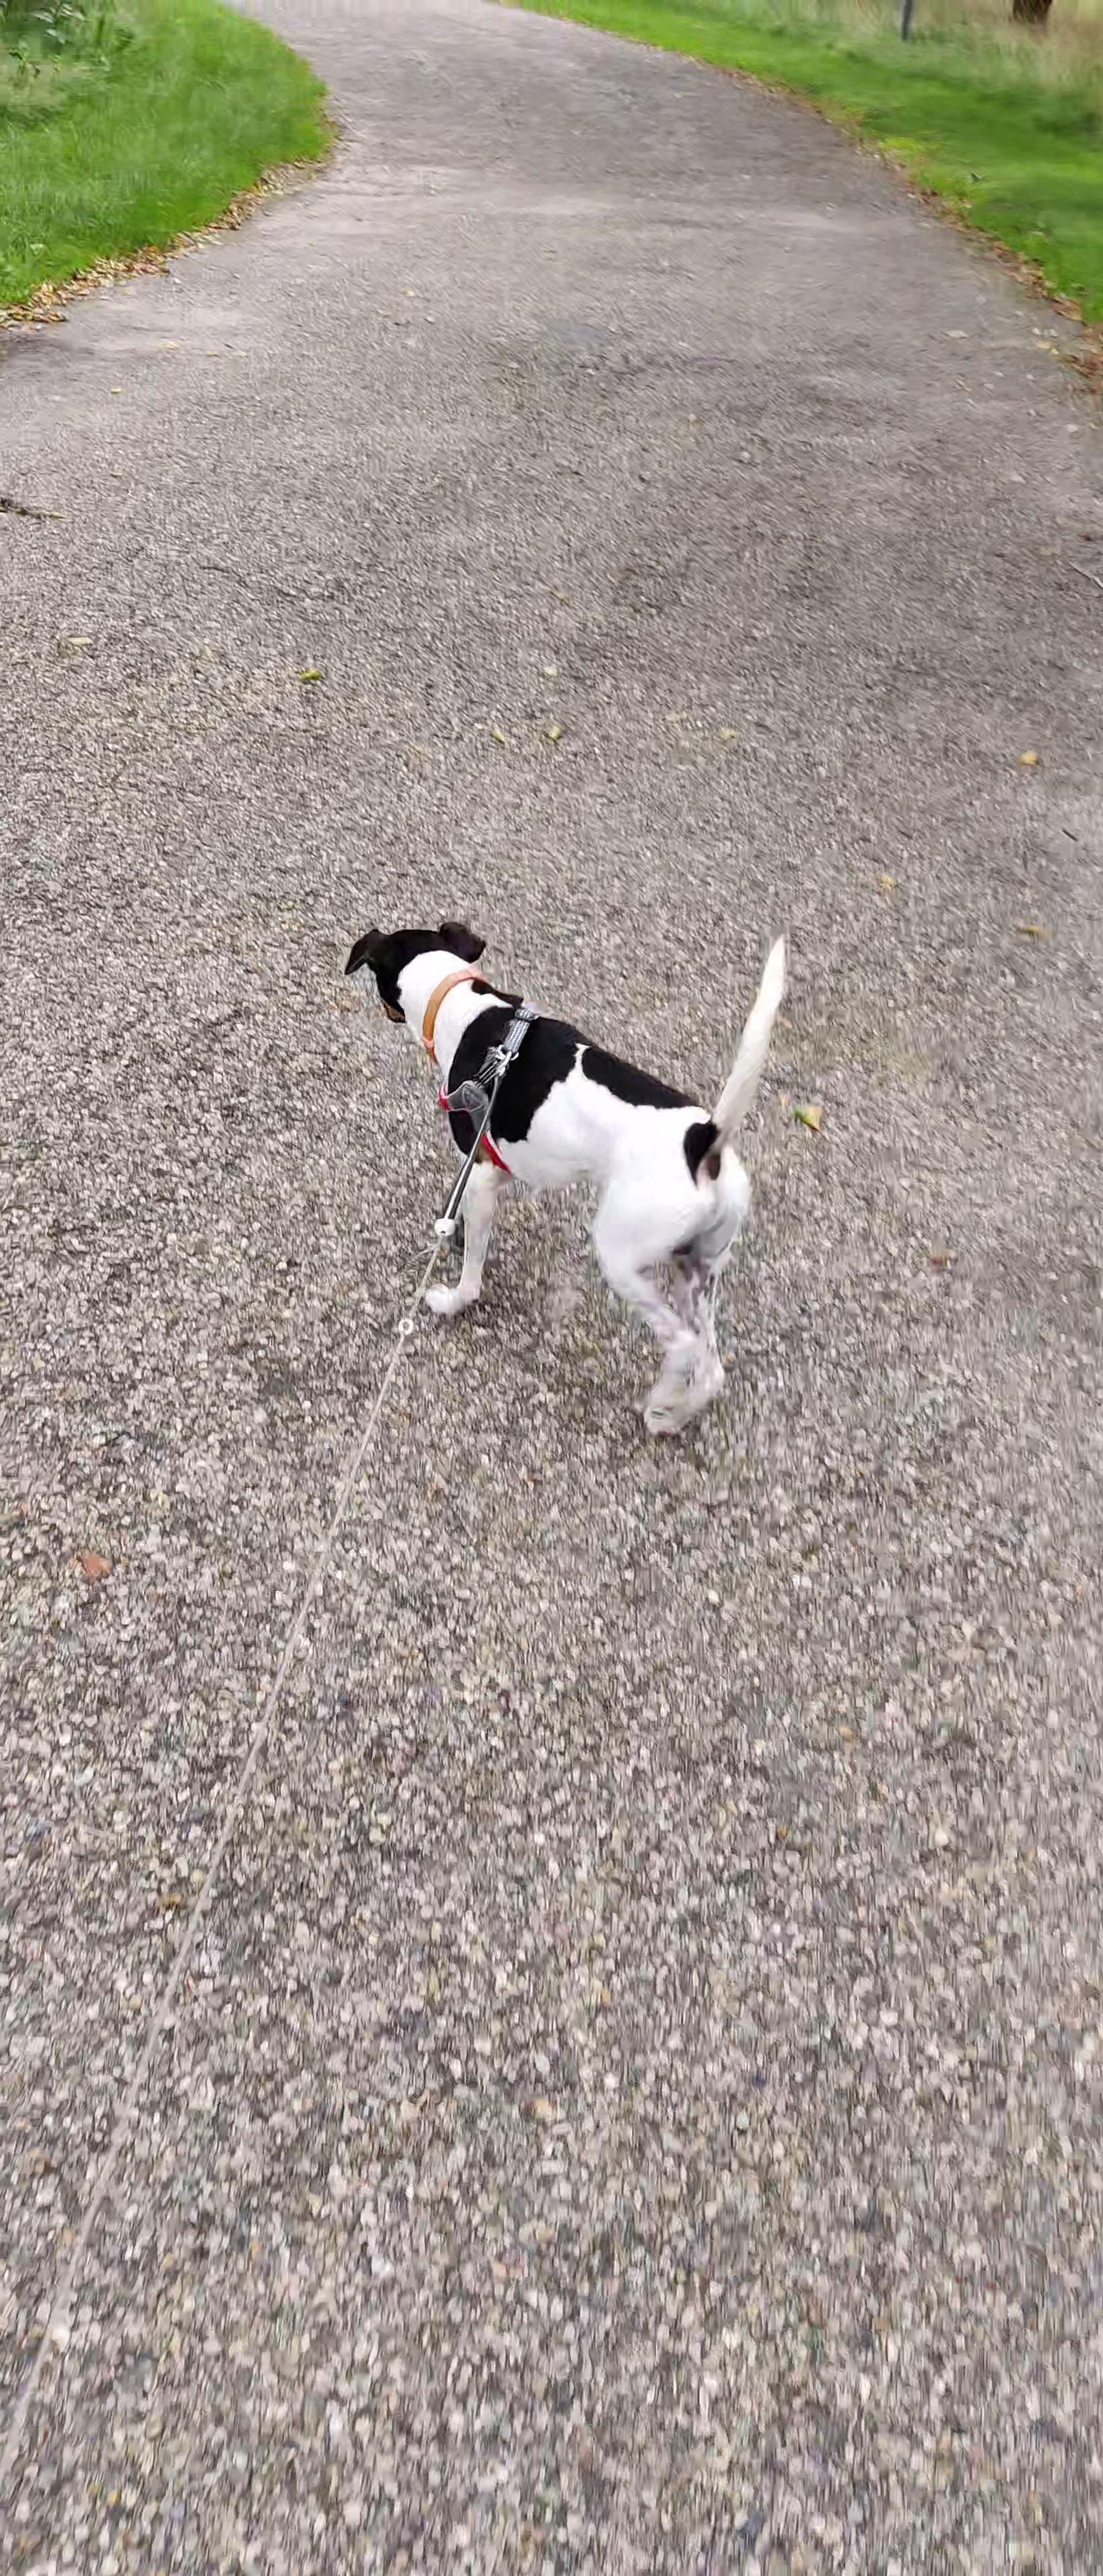Dog: (335, 915, 796, 1446)
